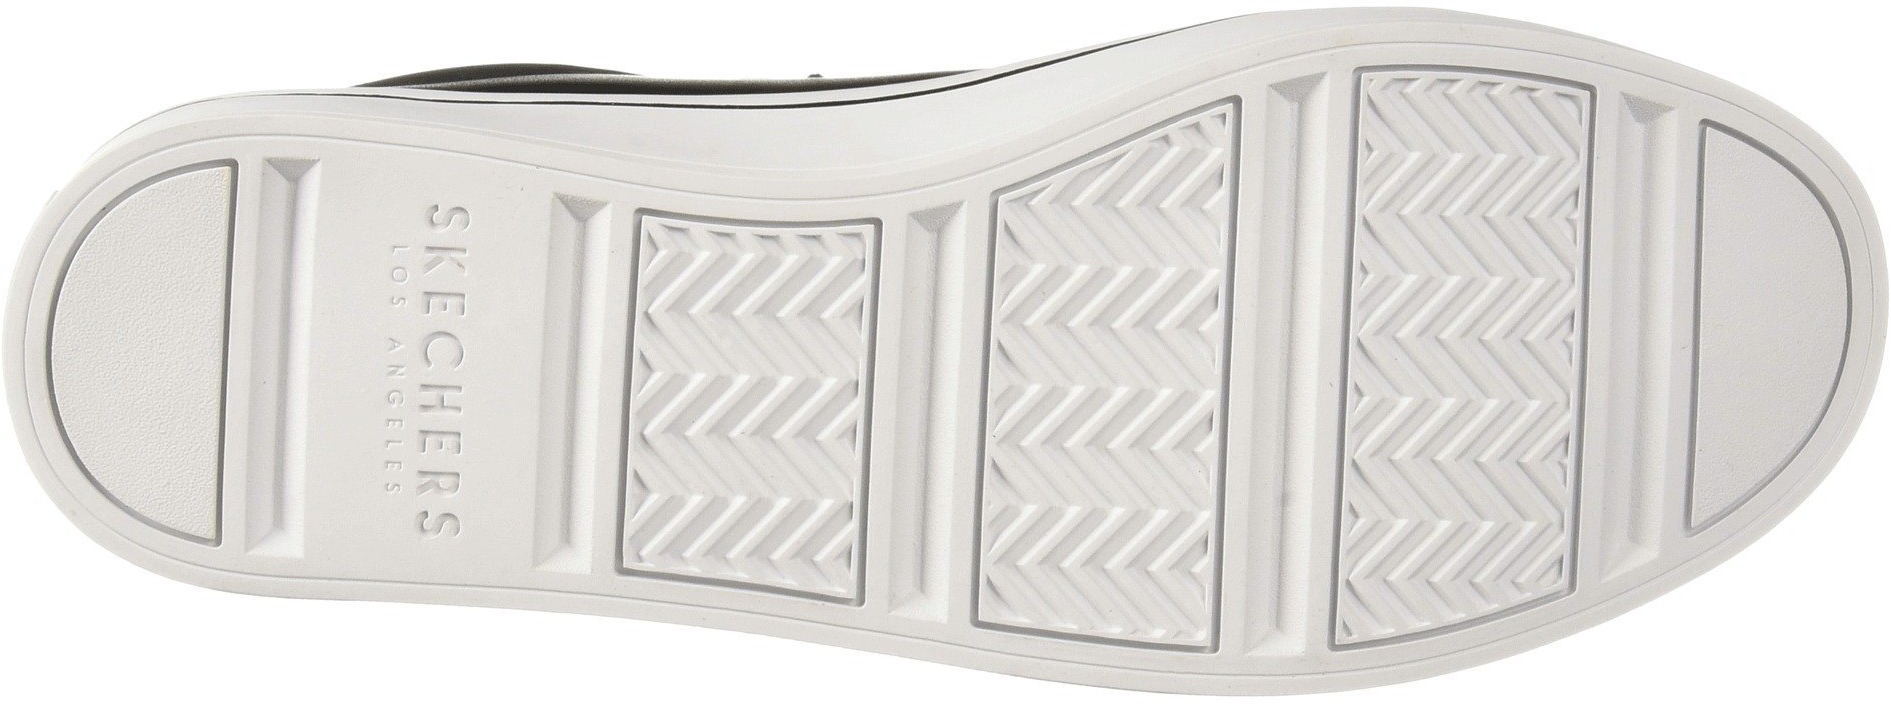chevron: (1333, 69, 1591, 643), (973, 101, 1235, 655), (616, 209, 871, 605)
circle: (52, 164, 242, 541)
quad: (620, 215, 880, 605), (1252, 76, 1323, 652), (888, 205, 968, 622), (1608, 96, 1678, 577), (535, 188, 608, 571)
text: (371, 193, 482, 557)
